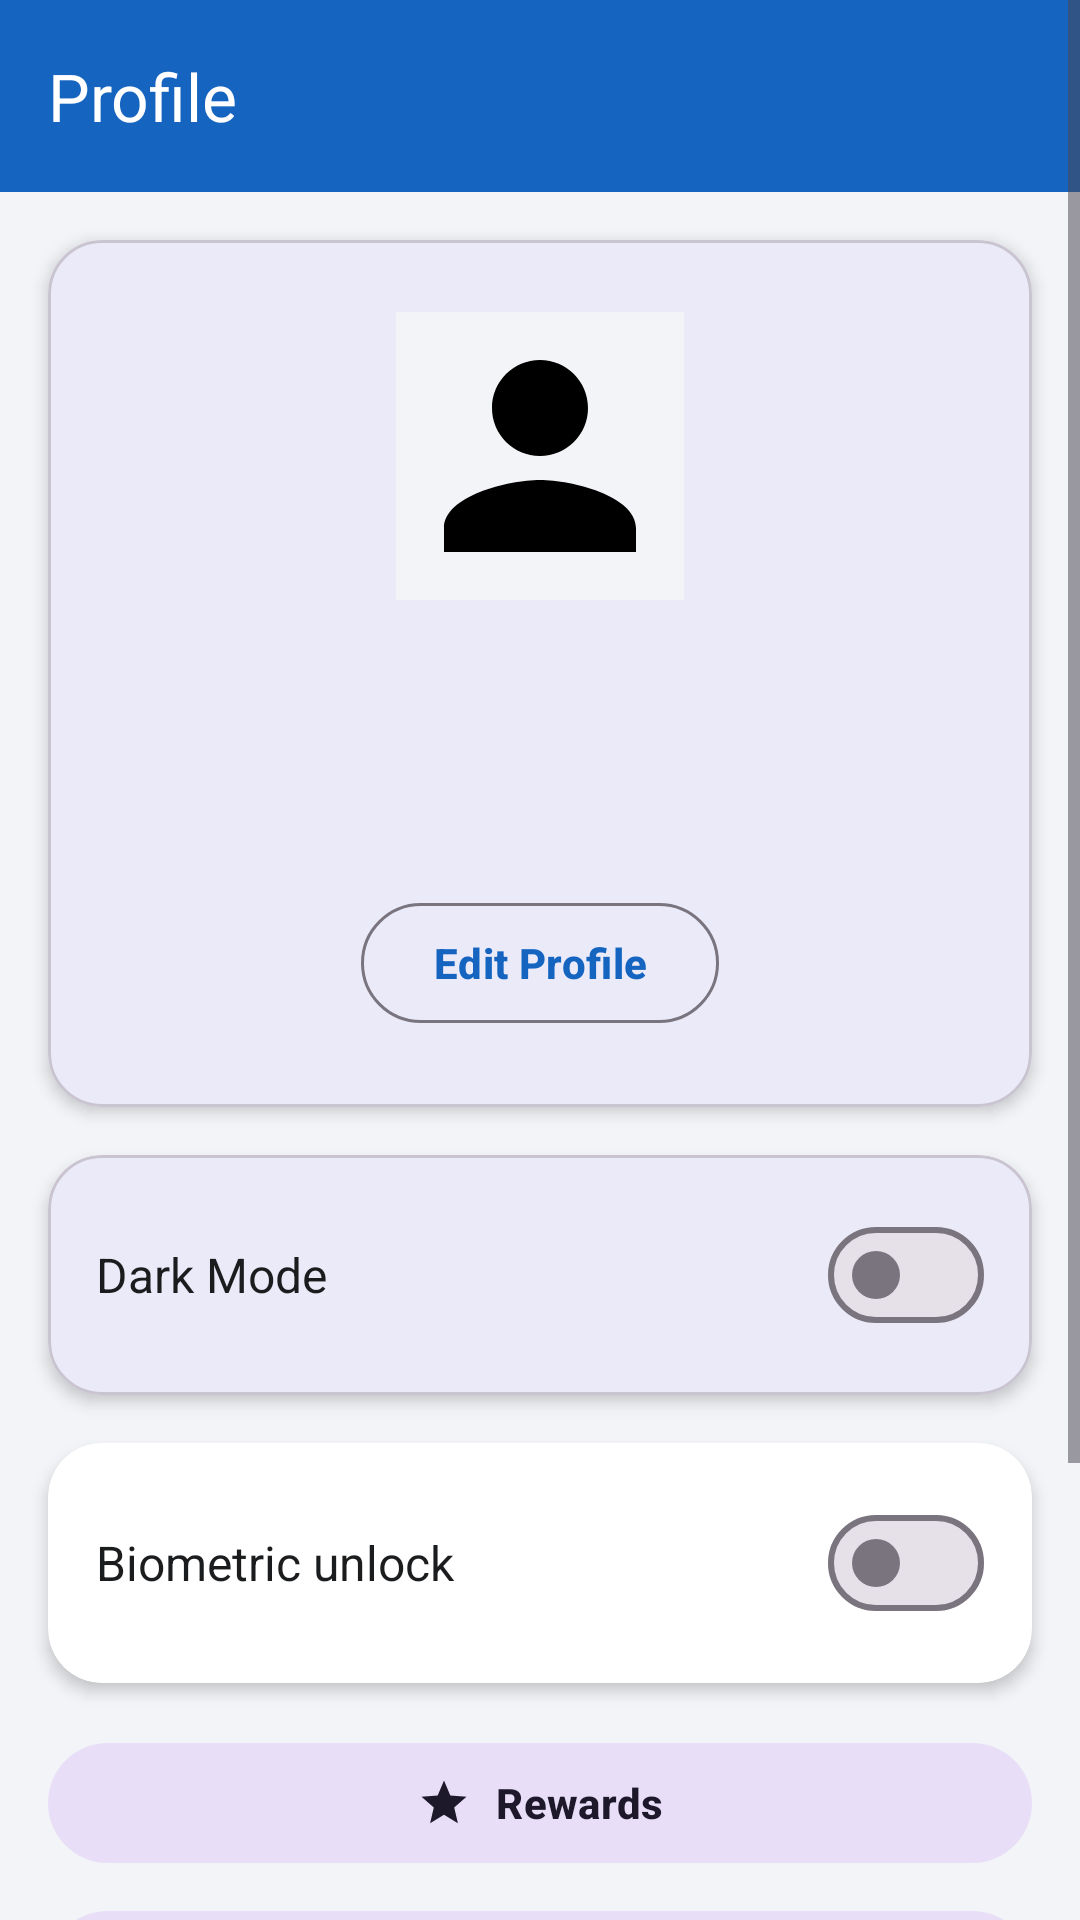

Icons on this 1080px x 1920px Android screen, each with its box as (left=x1, top=y1, right=x2, bottom=y2):
Profile: (left=444, top=360, right=636, bottom=552)
